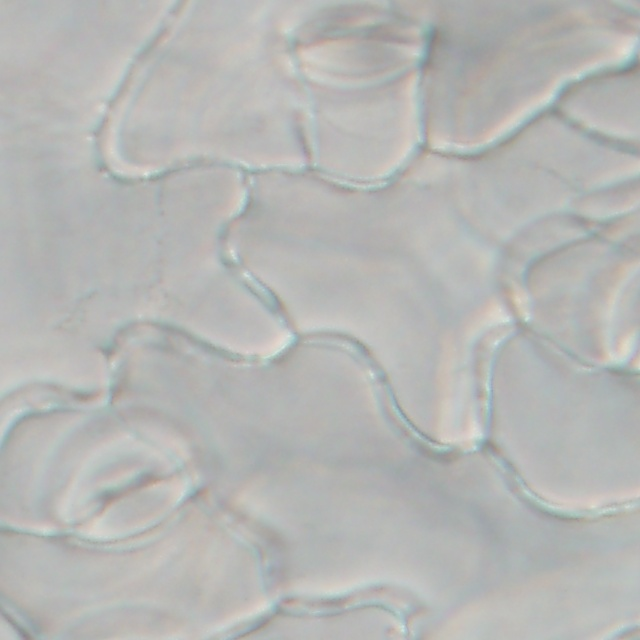center: (300, 8, 400, 57), (84, 462, 161, 510), (601, 317, 640, 321)
stomata-huw1: (43, 409, 203, 551), (267, 1, 436, 92), (610, 266, 639, 372)
